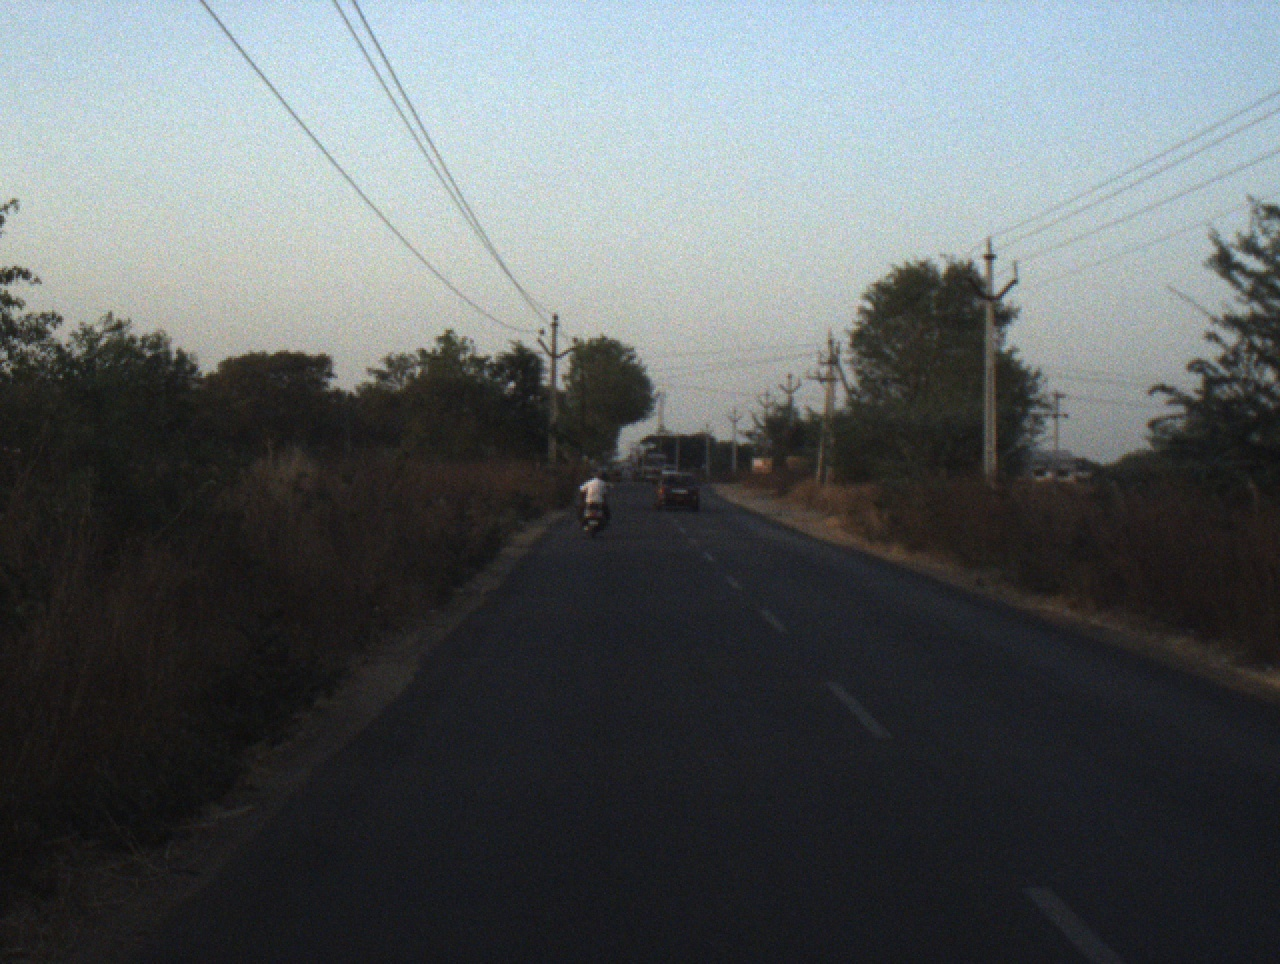autorickshaw: (600, 460, 623, 484)
car: (651, 468, 700, 514)
motorcycle: (579, 498, 607, 537)
rider: (576, 468, 611, 526)
truck: (634, 448, 666, 482)
